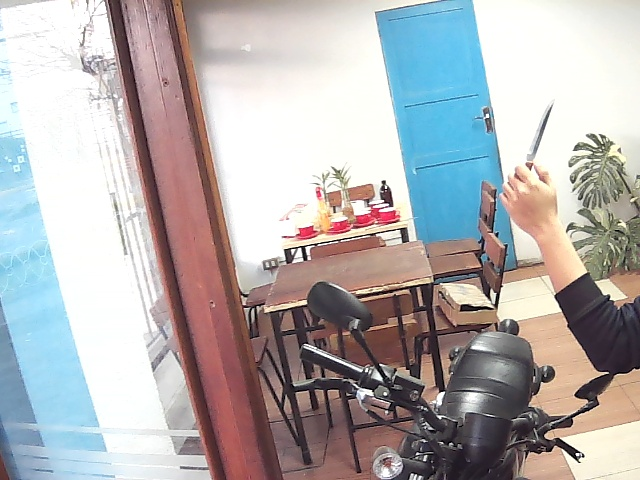cuchillo: (491, 90, 569, 241)
